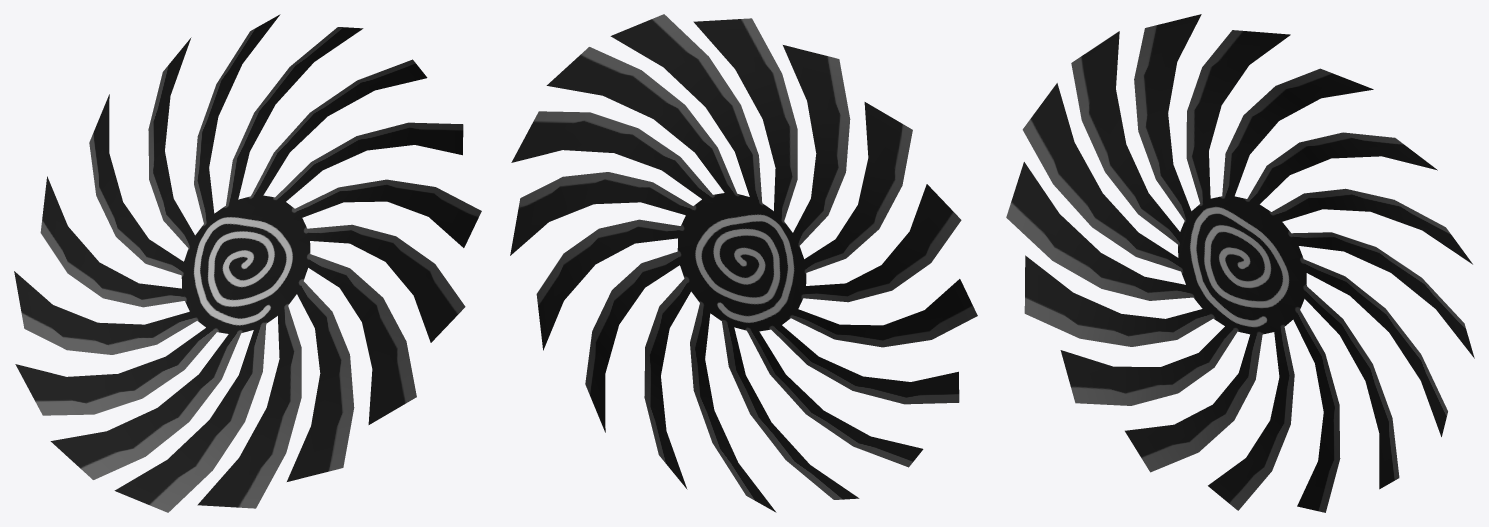
File: Propeler.fbx
3 renders of one model, left to right at view 1: azimuth 30°, elevation 25°; view 2: azimuth 150°, elevation 25°; view 3: azimuth 330°, elevation 25°, orthographic.
Parts seen in each view (by area): view 1: Helices.008; view 2: Helices.008; view 3: Helices.008.
Part boxes in pixels (x1,y1,x2,y2): Helices.008: [14, 14, 481, 512]; Helices.008: [510, 14, 977, 512]; Helices.008: [1006, 14, 1474, 512].
Bounding box in the file's own units: 282 × 282 × 15.01.
